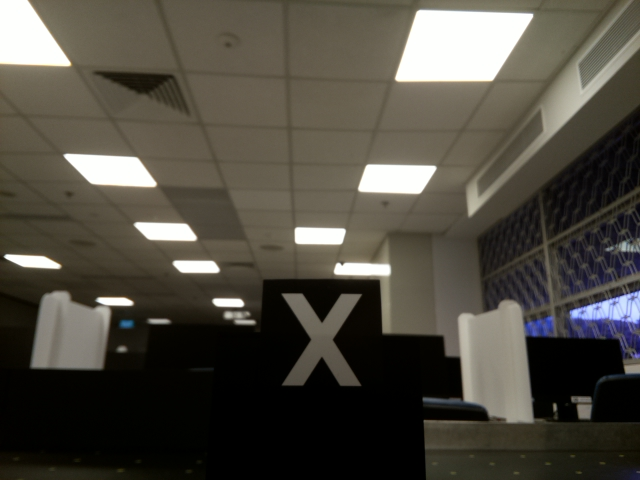x: (269, 283, 368, 393)
